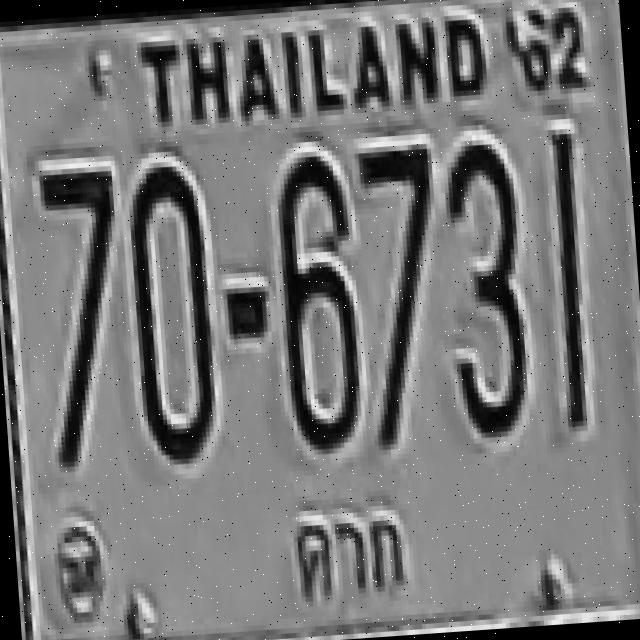0: (122, 160, 219, 466)
1: (547, 130, 589, 398), (548, 128, 588, 376)
3: (437, 140, 530, 437)
6: (270, 152, 364, 454)
7: (37, 165, 130, 472), (354, 141, 447, 448), (36, 166, 124, 377), (356, 143, 442, 350), (36, 166, 122, 352), (354, 141, 438, 327)
Tak: (265, 487, 435, 628)
